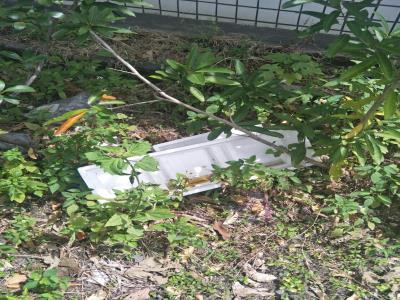box: (76, 120, 323, 210)
